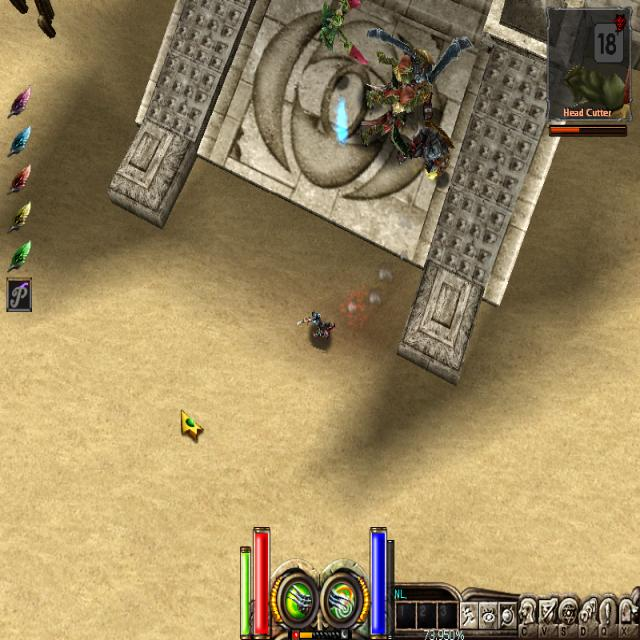monster: (402, 123, 454, 193), (318, 3, 369, 62), (369, 45, 403, 118), (409, 46, 440, 110), (381, 78, 409, 148)
